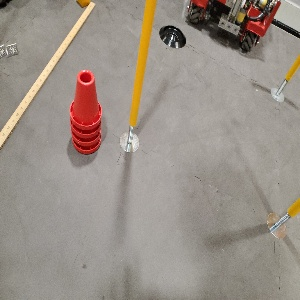Red_4: (68, 69, 101, 153)
